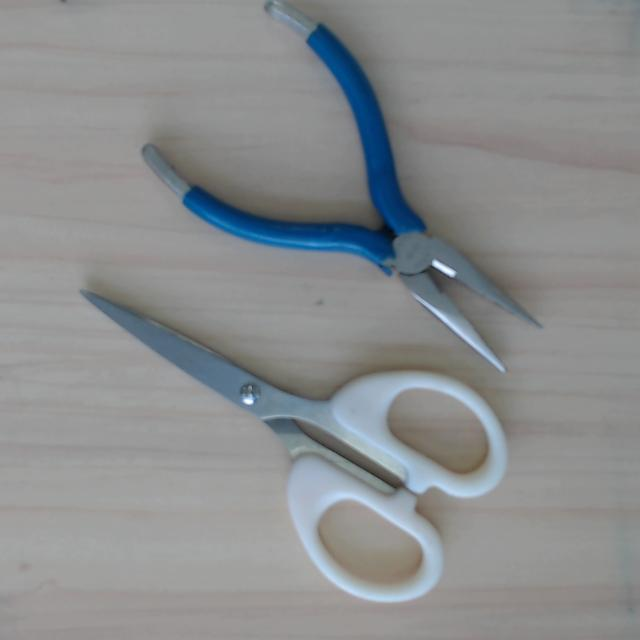Gunting: (28, 291, 523, 624)
